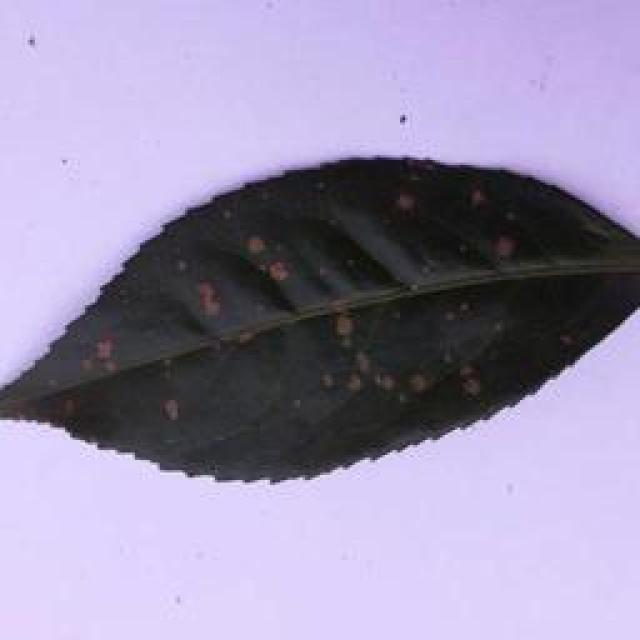Algal Leaf Spot: (0, 156, 640, 491)
